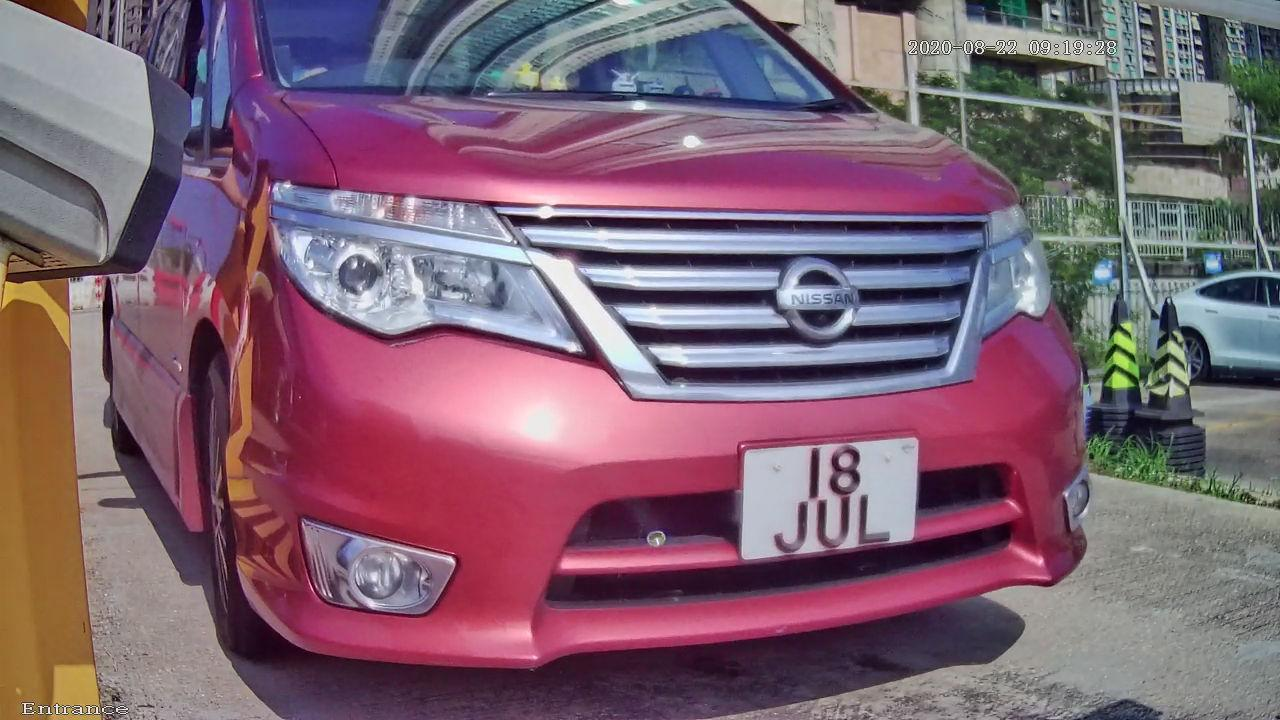License Plate: (700, 414, 961, 589)
